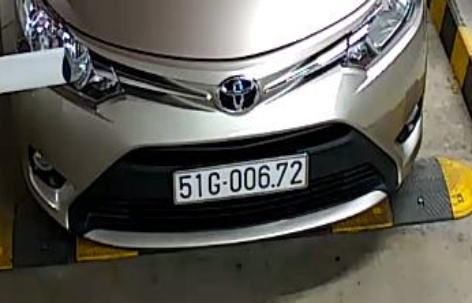plate: (166, 151, 312, 206)
